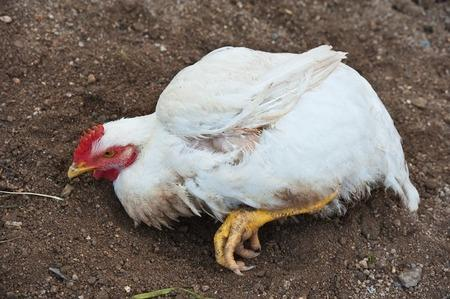AbNormal: (63, 42, 418, 273)
